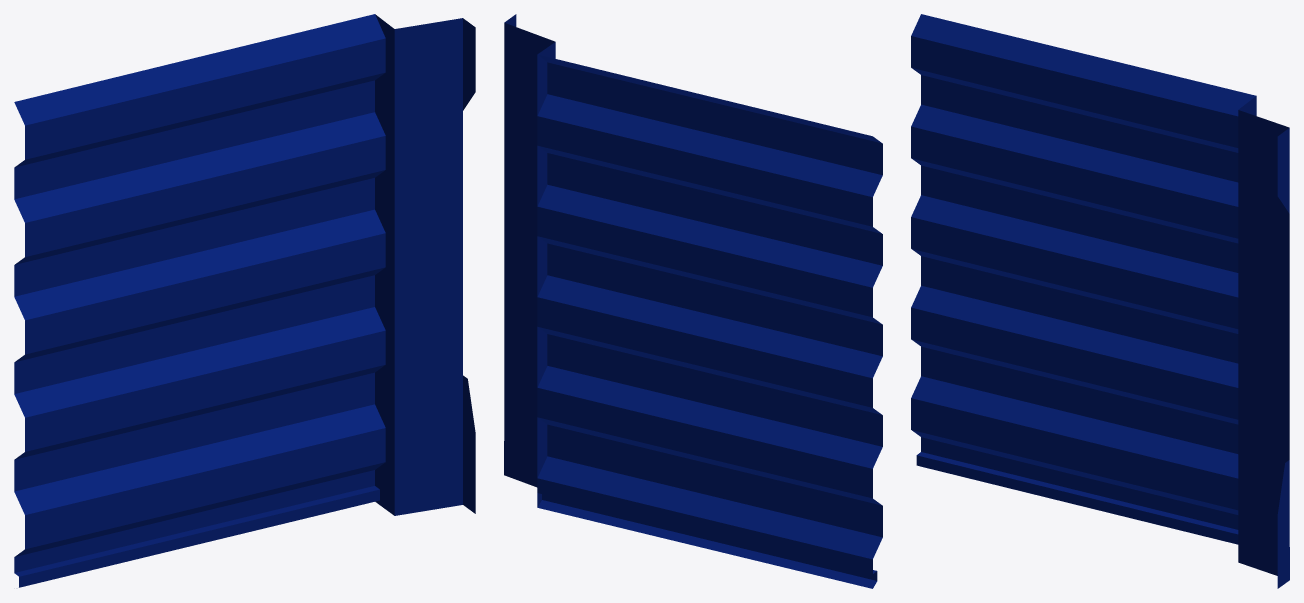
The model's file is mesh_BuildingA_GarageLowerRight_v2.fbx.
3 views of the same model, side by side, from view 1: azimuth 30°, elevation 25°; view 2: azimuth 150°, elevation 25°; view 3: azimuth 330°, elevation 25° (orthographic). The views are drawn at different scales.
Parts seen in each view (by area): view 1: mesh_BuildingA_GarageLowerRight; view 2: mesh_BuildingA_GarageLowerRight; view 3: mesh_BuildingA_GarageLowerRight.
Boxes of the visible parts, x1=… form: mesh_BuildingA_GarageLowerRight: x1=14, y1=14, x2=475, y2=587; mesh_BuildingA_GarageLowerRight: x1=504, y1=14, x2=882, y2=588; mesh_BuildingA_GarageLowerRight: x1=911, y1=14, x2=1289, y2=588.
Size of the model in its own units: 182 by 201 by 29.06.
